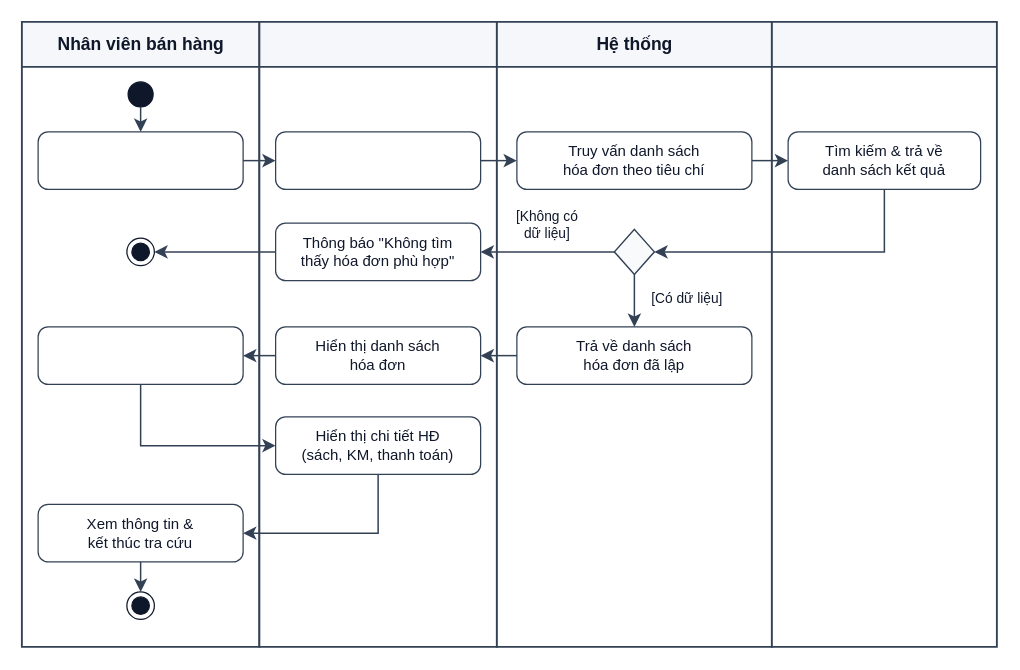
This 1020x670 diagram has some shape labels left out. Here are the shapes that lost their labels. From the top down, the box of each, then its label:
(37, 131, 243, 189): Chọn "Tra cứu hóa đơn" & nhập tiêu chí tìm kiếm
(274, 131, 481, 189): Gửi yêu cầu tra cứu hóa đơn
(258, 20, 497, 647): Giao diện
(770, 20, 997, 647): Database
(37, 326, 243, 384): Chọn một hóa đơn để xem chi tiết
